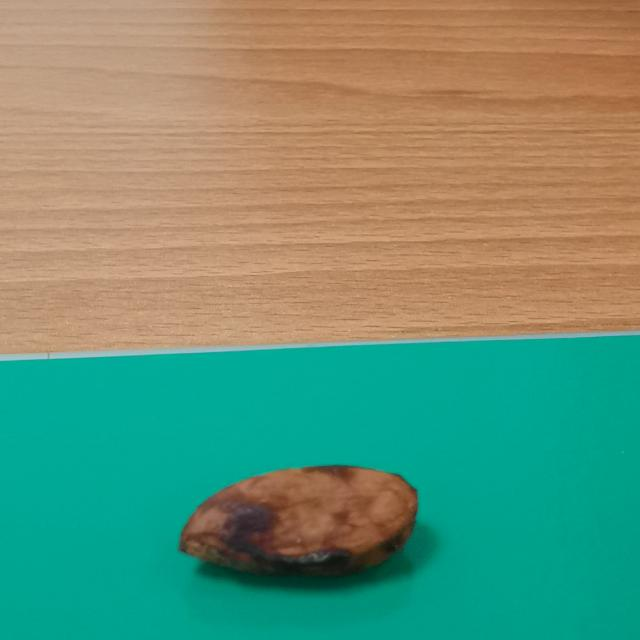Fine_cocoabeans: (141, 404, 458, 619)
